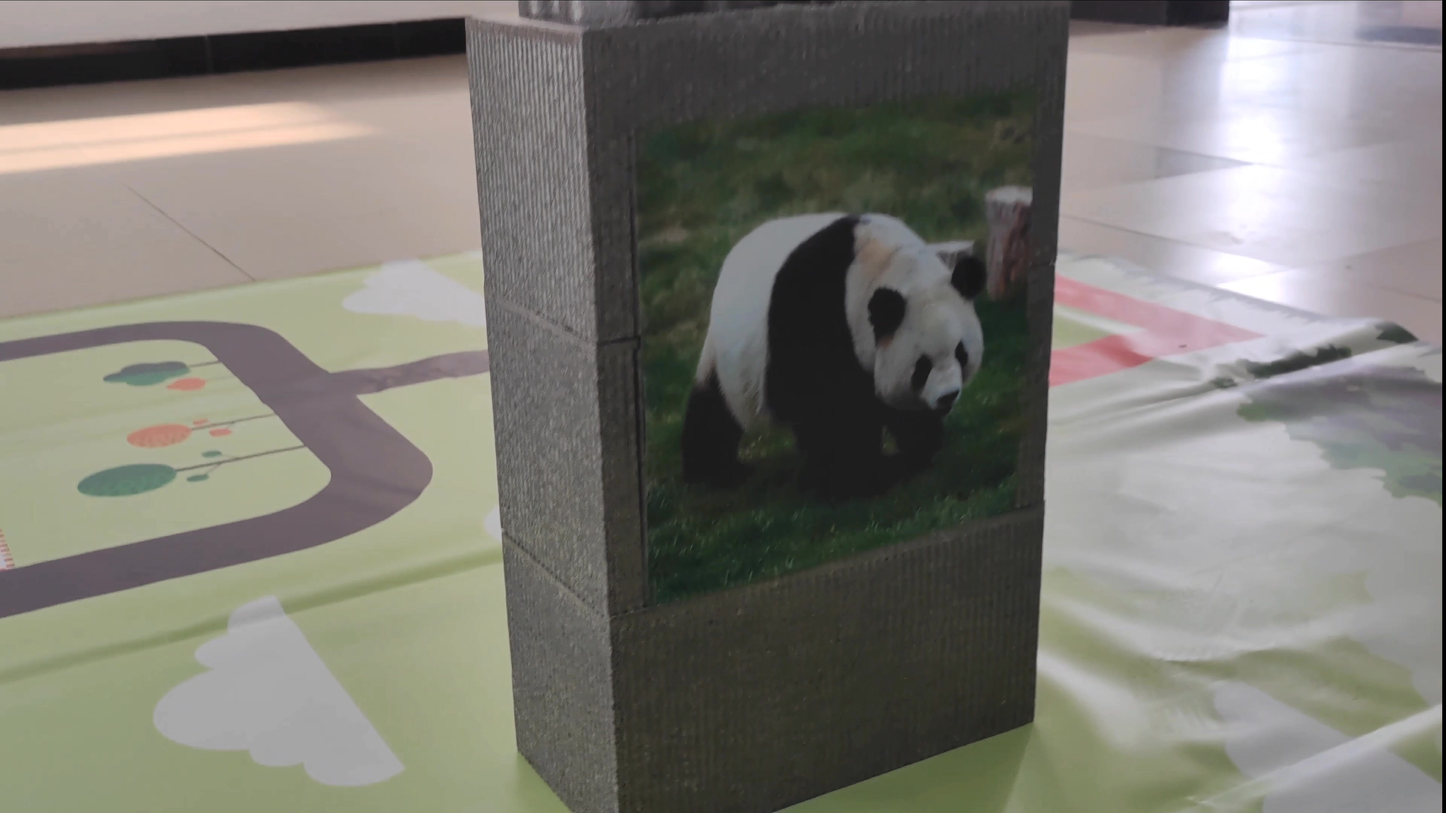panda: (659, 197, 995, 478)
